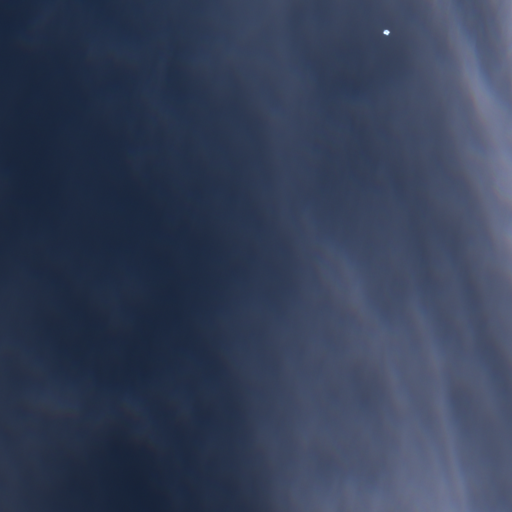Iceberg: (383, 29, 389, 35)
